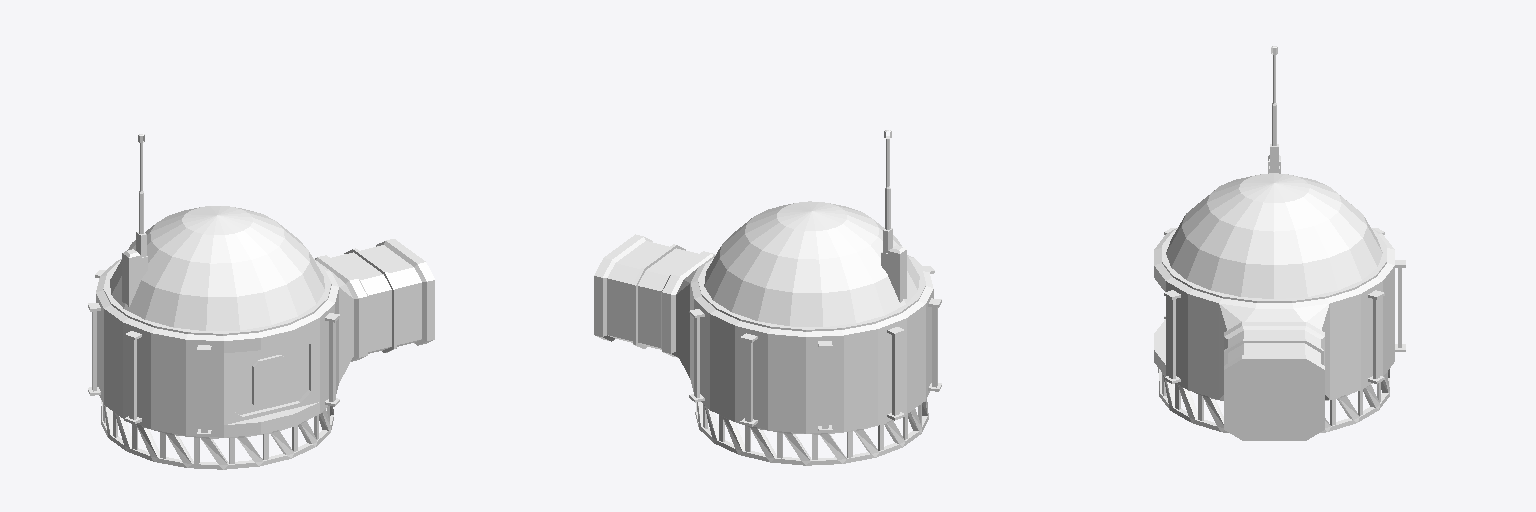
File: stantion_1.obj
3 views of the same model, side by side, from view 1: azimuth 30°, elevation 25°; view 2: azimuth 150°, elevation 25°; view 3: azimuth 270°, elevation 25° (orthographic).
Visible parts, largest first — view 1: Cylinder, Sphere, Cylinder.001, Cube_Cube.001; view 2: Cylinder, Sphere, Cylinder.001, Cube_Cube.001; view 3: Cylinder, Sphere, Cylinder.001.
Boxes of the visible parts, x1=… form: Cylinder: x1=88, y1=239, x2=434, y2=437; Sphere: x1=110, y1=206, x2=324, y2=330; Cylinder.001: x1=101, y1=400, x2=333, y2=469; Cube_Cube.001: x1=122, y1=232, x2=147, y2=306; Cylinder: x1=594, y1=234, x2=941, y2=433; Sphere: x1=704, y1=201, x2=919, y2=326; Cylinder.001: x1=695, y1=399, x2=928, y2=465; Cube_Cube.001: x1=881, y1=228, x2=906, y2=302; Cylinder: x1=1154, y1=228, x2=1405, y2=440; Sphere: x1=1166, y1=173, x2=1382, y2=298; Cylinder.001: x1=1158, y1=368, x2=1389, y2=432.
Bounding box in the file's own units: 5.74 × 5.52 × 4.13.